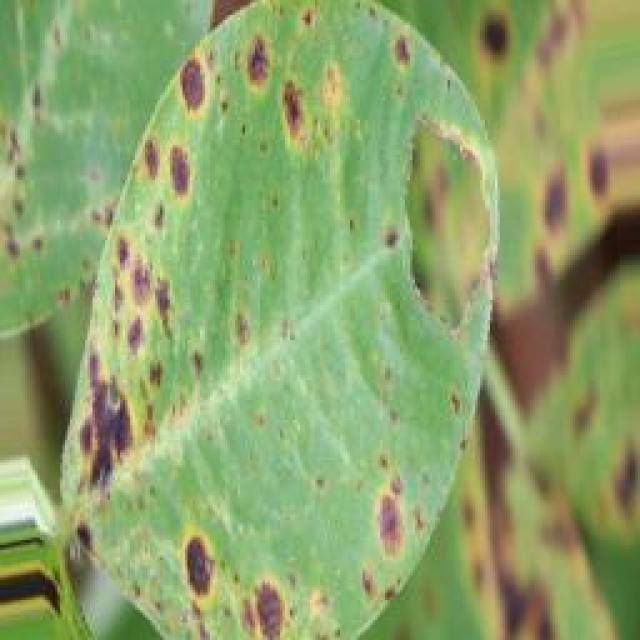Yellowish: (0, 8, 558, 640)
